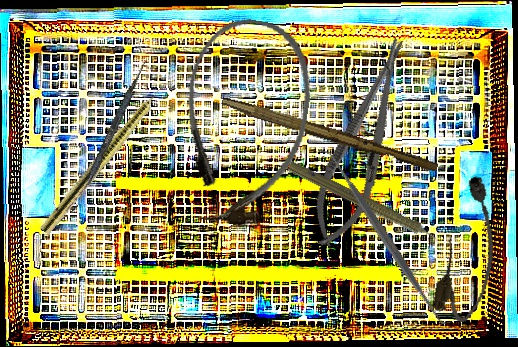Cannula: (167, 11, 322, 234), (429, 173, 512, 326)
Handpiece: (39, 72, 177, 237), (284, 157, 450, 254)
Needle Holder: (299, 30, 426, 256)
Scalpel Handle: (219, 96, 440, 174)
Spatula Surgical: (316, 140, 452, 333), (71, 57, 148, 216)
